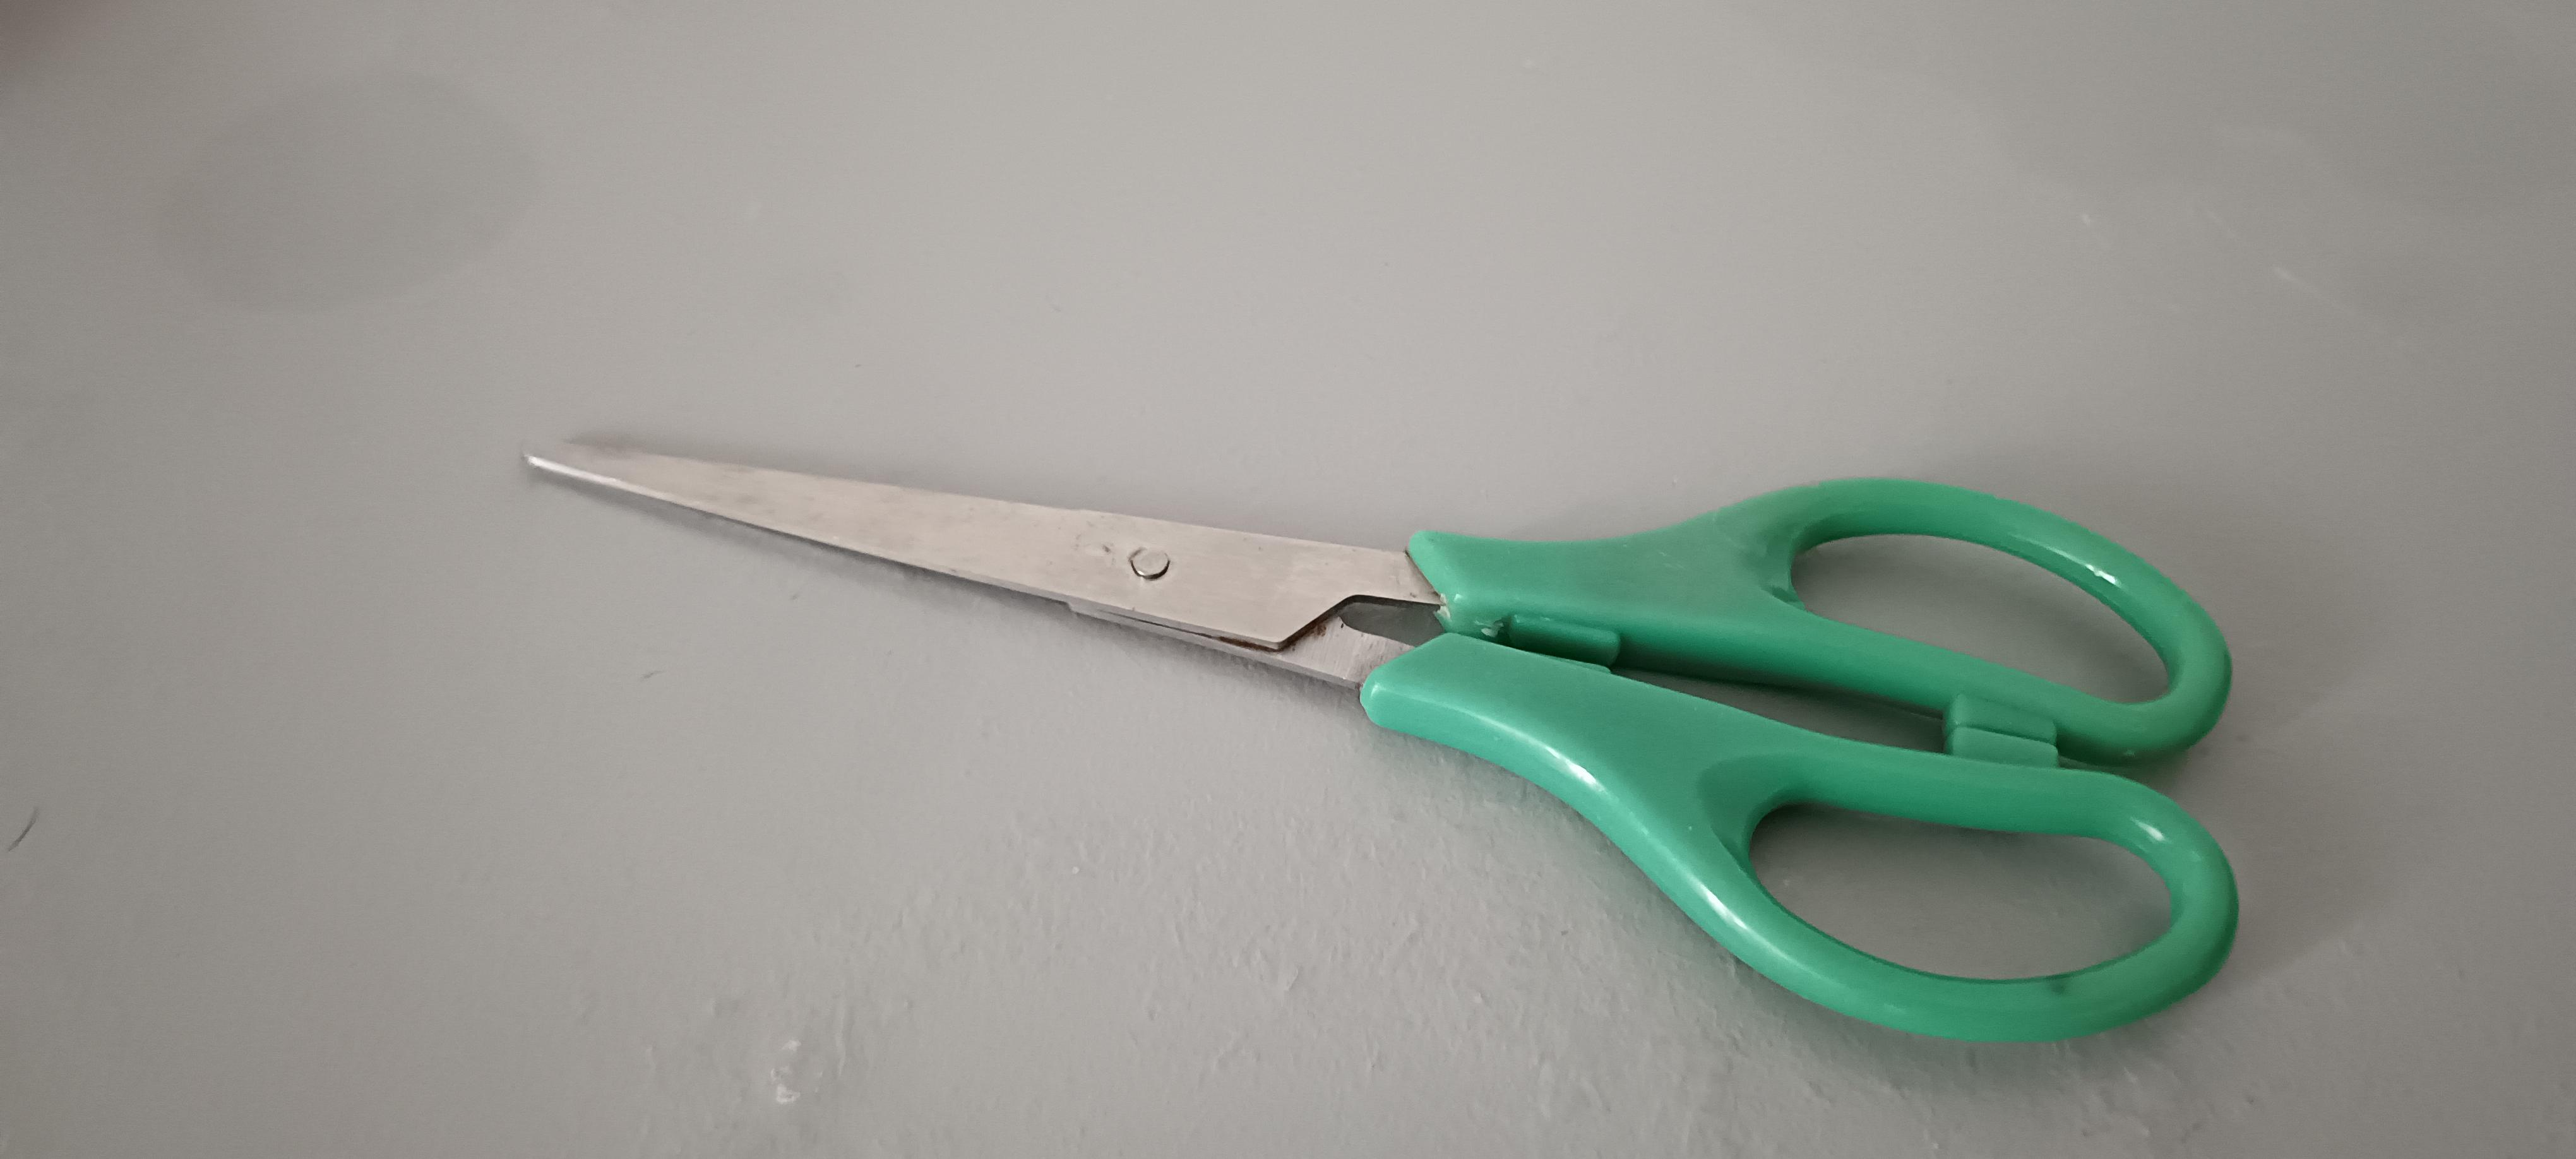Scissors: (439, 315, 2287, 1085)
